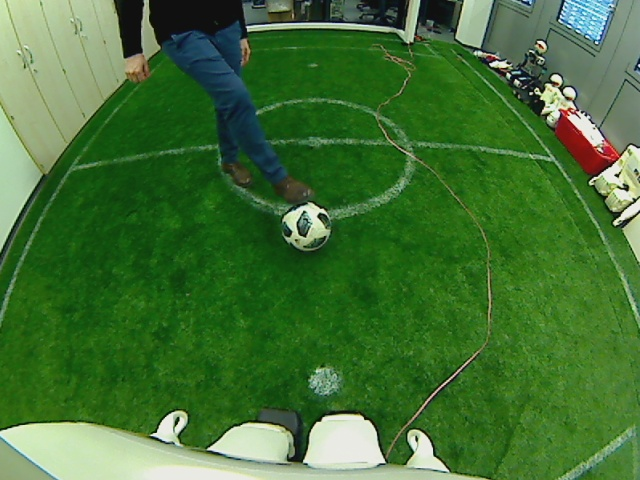ball: (279, 199, 332, 252)
